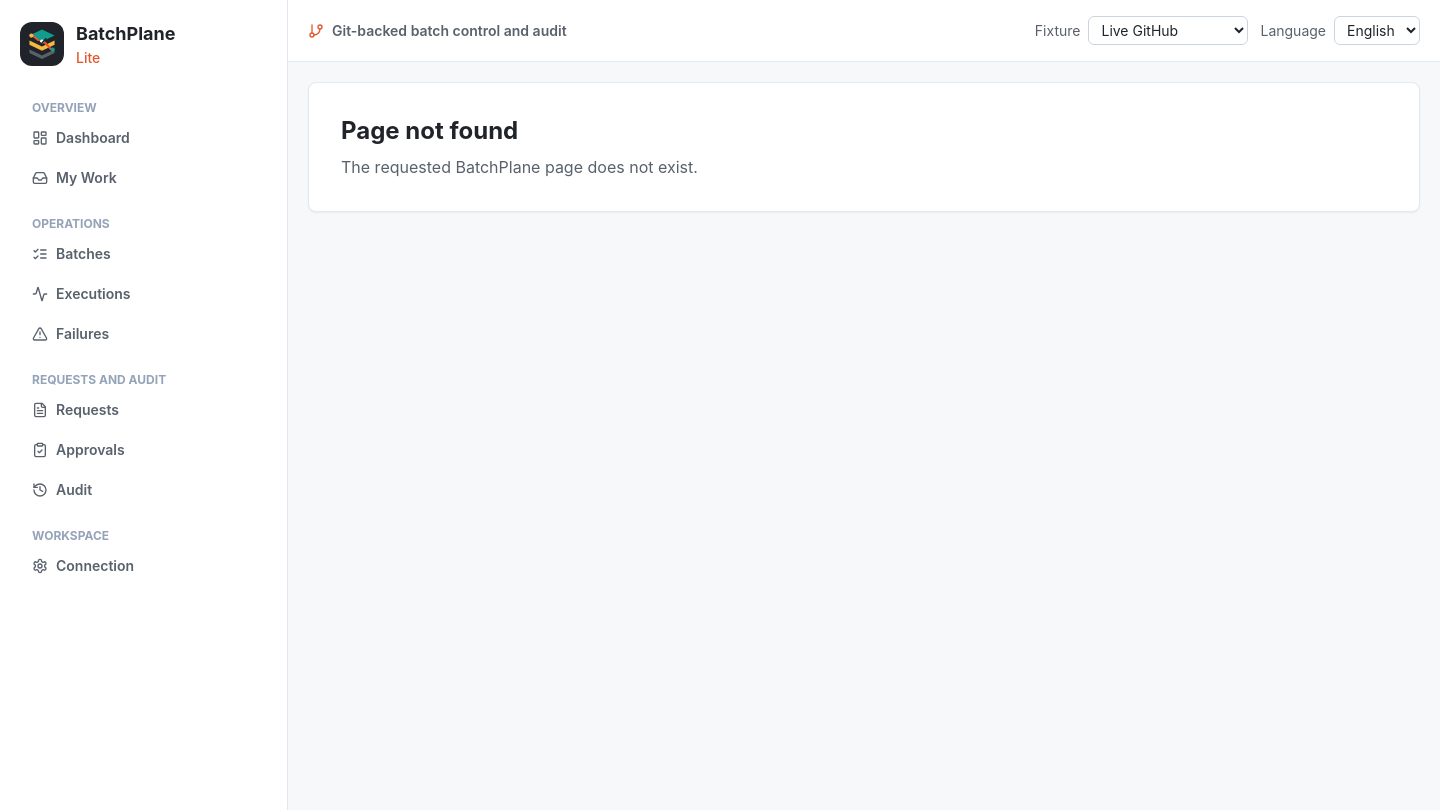
Test: app router › renders unknown paths and permits navigation out of the wildcard route
Expected: the heading "Page not found" is shown, [341, 116, 518, 145]
Click the link "Dashboard". click: (81, 138)
box: [32, 129, 130, 146]
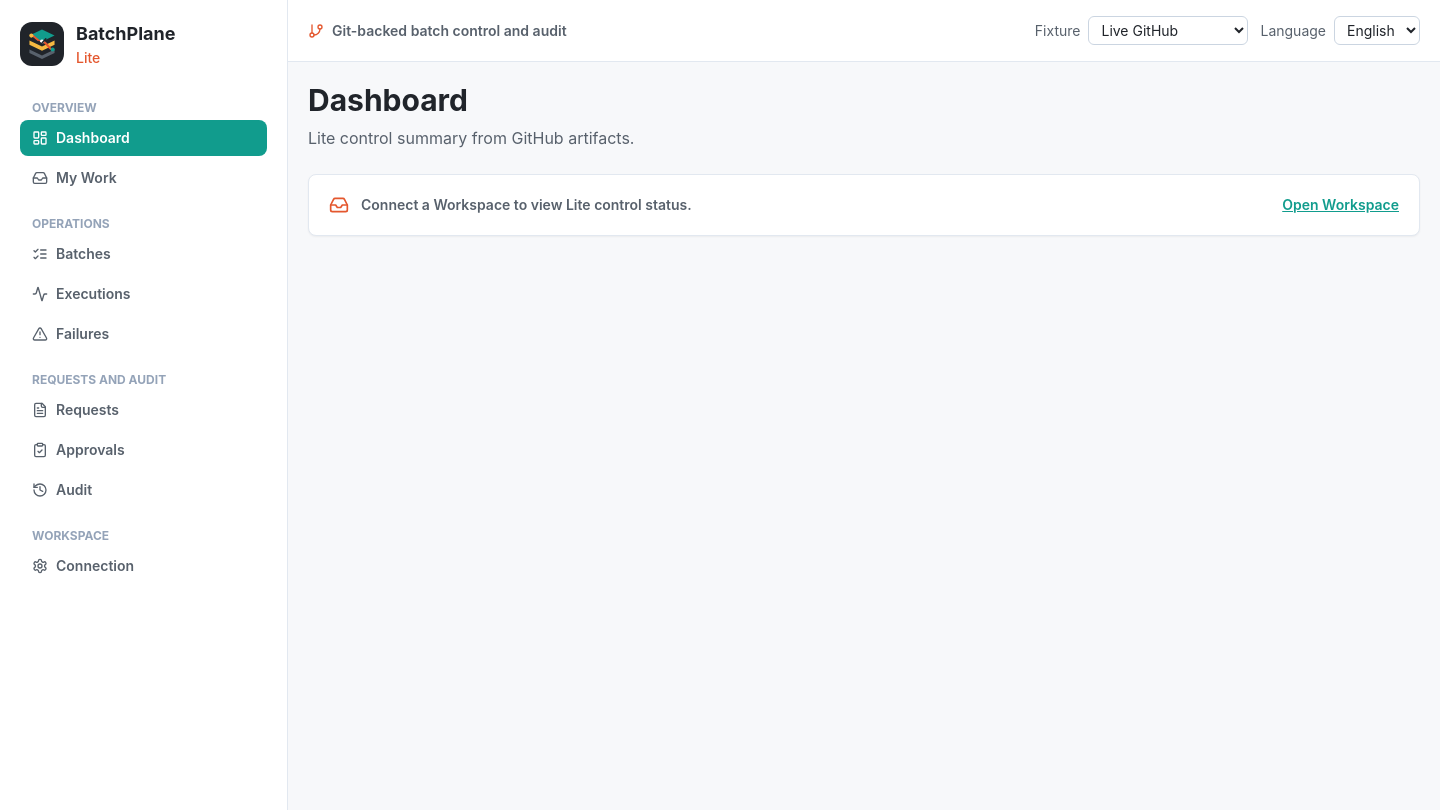
Now the heading "Dashboard" is shown, box [308, 82, 468, 118]
